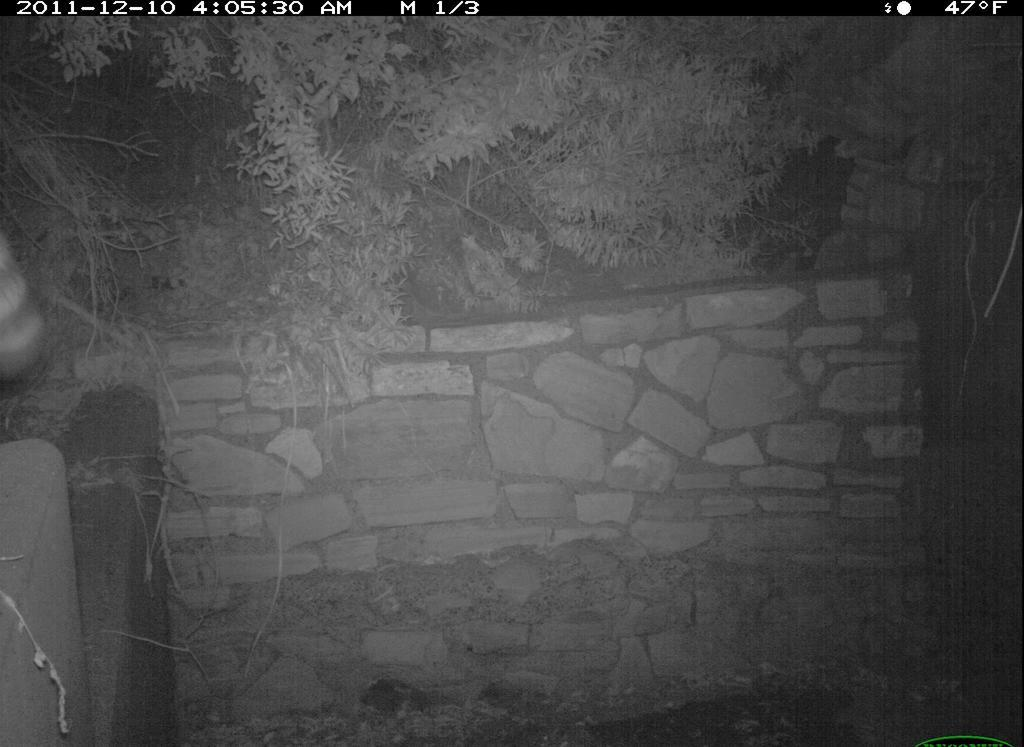raccoon: (2, 222, 89, 424)
